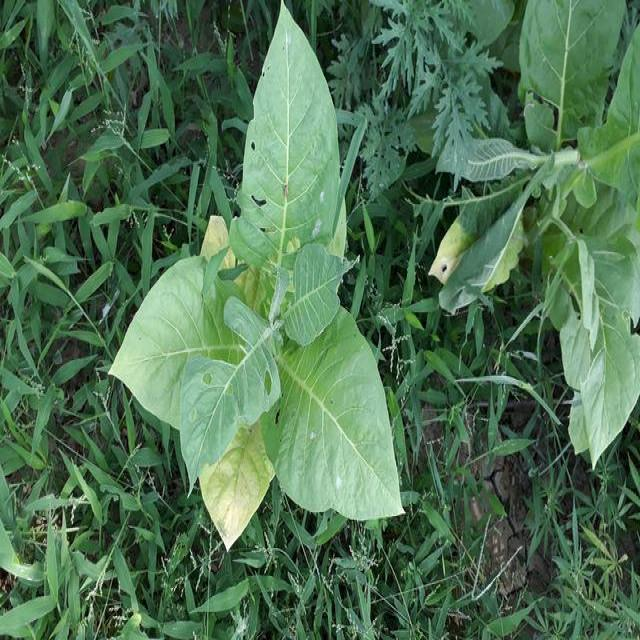crop: (112, 10, 406, 539), (493, 0, 639, 464)
